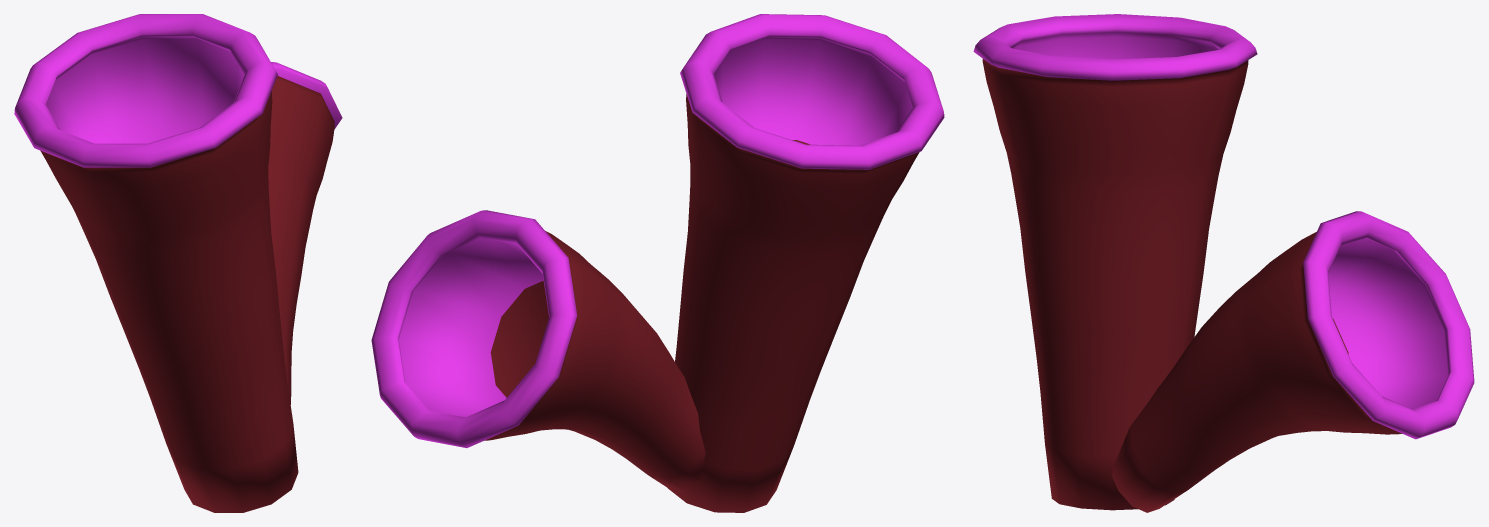
File: CoralGlowing1.fbx
The picture shows the model from 3 angles, left to right: view 1: azimuth 30°, elevation 25°; view 2: azimuth 150°, elevation 25°; view 3: azimuth 270°, elevation 25°; orthographic projection.
Visible parts, largest first — view 1: Cylinder.006, Cylinder.007; view 2: Cylinder.006, Cylinder.007; view 3: Cylinder.006, Cylinder.007.
Boxes of the visible parts, left/top/right/bottom form: Cylinder.006: left=14, top=14, right=298, bottom=512; Cylinder.007: left=268, top=62, right=342, bottom=404; Cylinder.006: left=668, top=14, right=944, bottom=512; Cylinder.007: left=371, top=210, right=705, bottom=490; Cylinder.006: left=973, top=14, right=1257, bottom=510; Cylinder.007: left=1112, top=211, right=1474, bottom=512.
Size of the model in its own units: 121 by 128 by 128.
